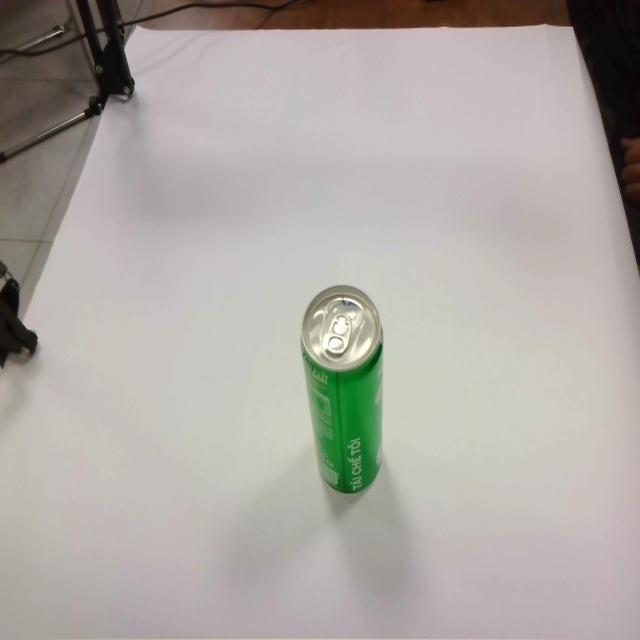debris: (299, 283, 385, 496)
